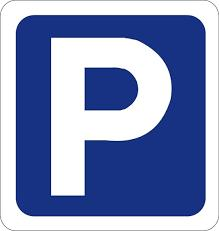parking: (15, 13, 207, 217)
